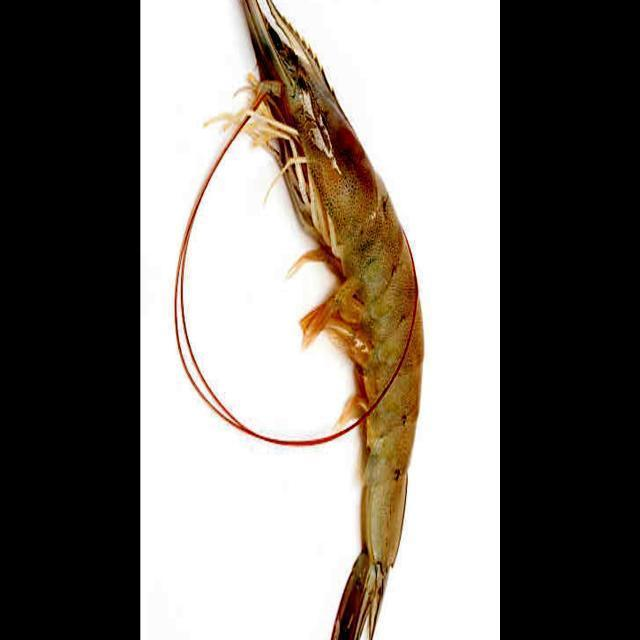shrimp: (244, 0, 423, 640)
